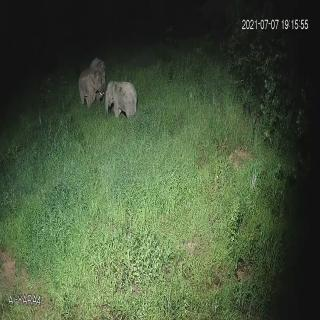Elephant: (78, 55, 108, 112), (106, 78, 142, 124)
